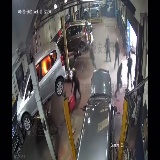fire: (37, 56, 56, 81)
